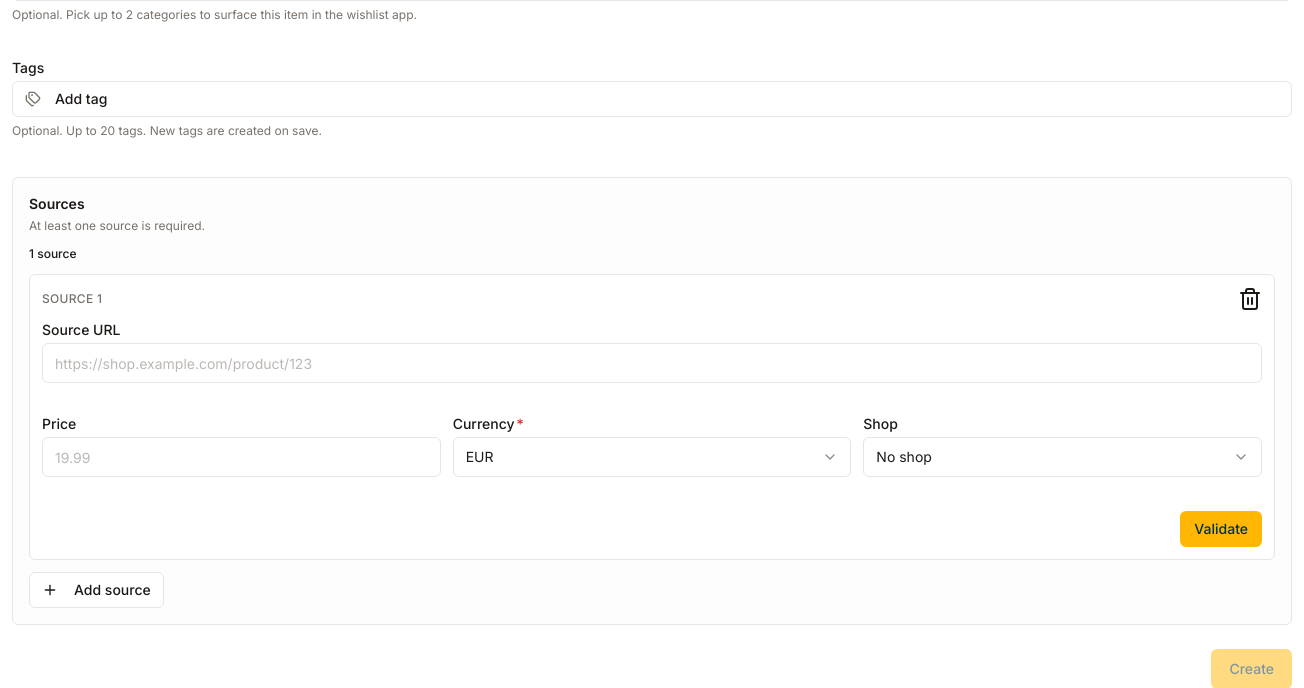
Scenario: ItemForm (create mode) › appends a new source row when the Add source button is clicked
This screenshot has width=1304, height=688.
(page scrolled)
Click the button "Add source" at (96, 590), box x1=29 y1=572 x2=164 y2=608
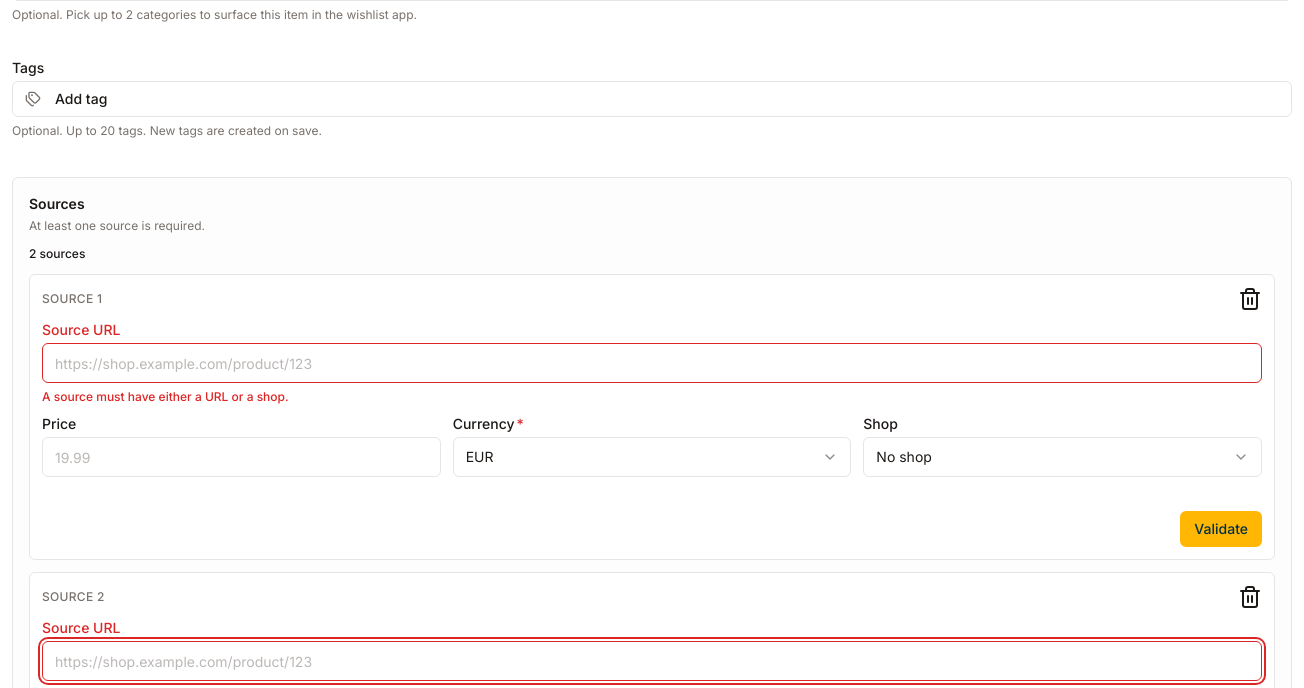
Check: the text "Source 2" is shown, box x1=42 y1=589 x2=105 y2=605
